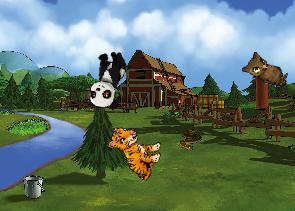owl: (240, 49, 292, 87)
panda: (86, 47, 128, 112)
tiger: (101, 123, 166, 182)
